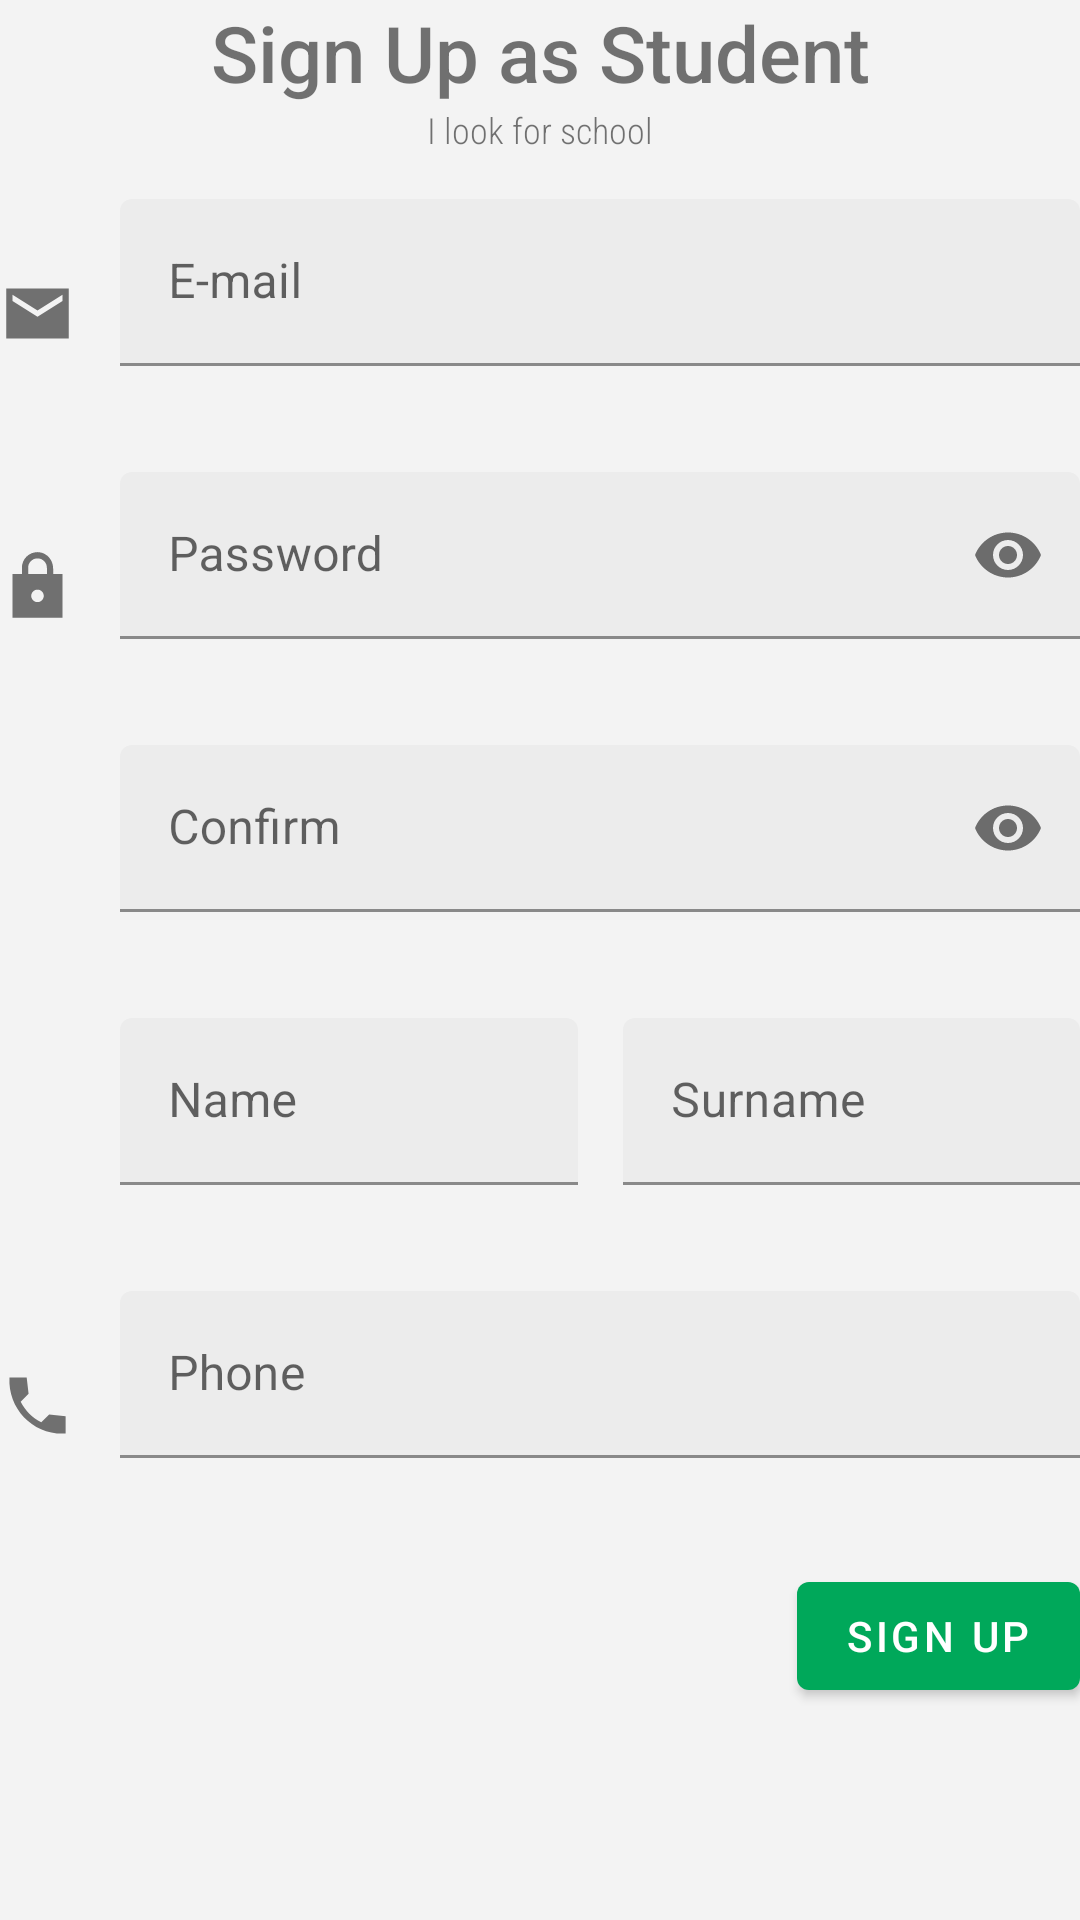

Screen size 1080x1920. Icon name, then its center in pixels as (x=x, y=y):
lock: (x=37, y=585)
